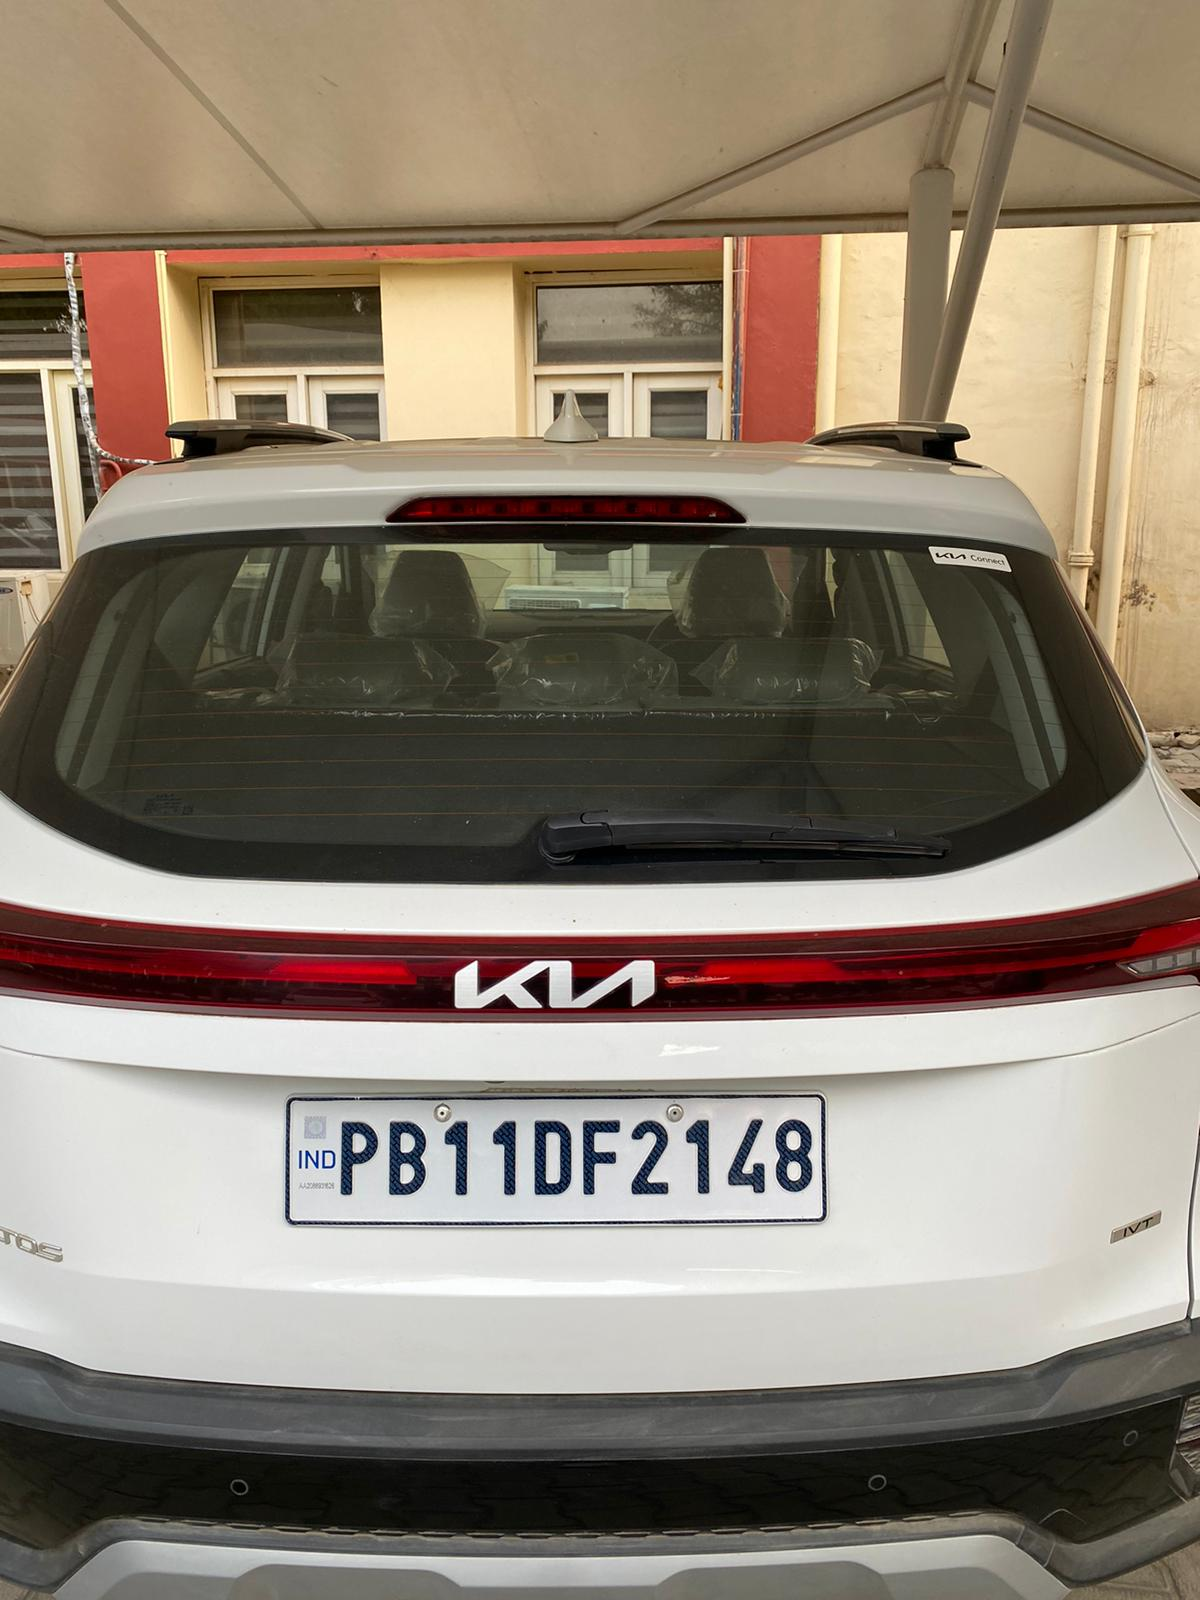license plate: (286, 1094, 825, 1224)
